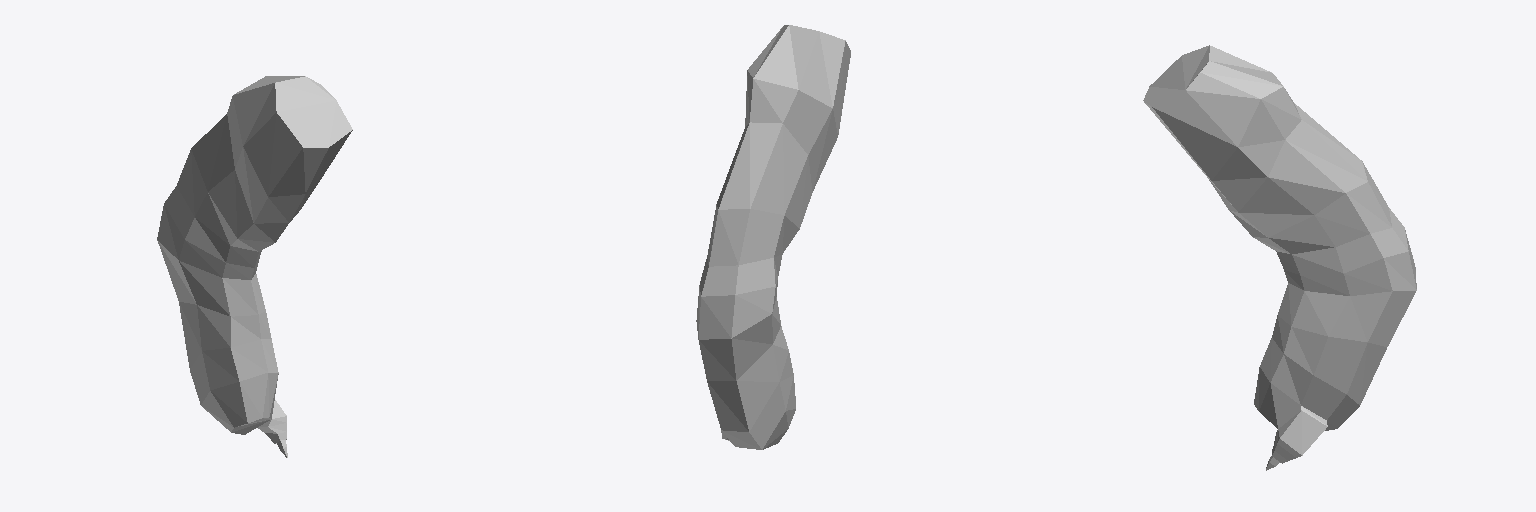
Rendered from spinosaurusLeftKneeOfficial.obj.
3 views of the same model, side by side, from view 1: azimuth 30°, elevation 25°; view 2: azimuth 150°, elevation 25°; view 3: azimuth 270°, elevation 25° (orthographic).
Parts seen in each view (by area): view 1: LeftLegLimb_Cube.000; view 2: LeftLegLimb_Cube.000; view 3: LeftLegLimb_Cube.000.
Boxes of the visible parts, box(x1,y1,x2,y2) form: LeftLegLimb_Cube.000: box(157, 76, 352, 457); LeftLegLimb_Cube.000: box(696, 25, 850, 449); LeftLegLimb_Cube.000: box(1143, 45, 1416, 470).
Bounding box in the file's own units: 0.4233 × 2.01 × 1.23.